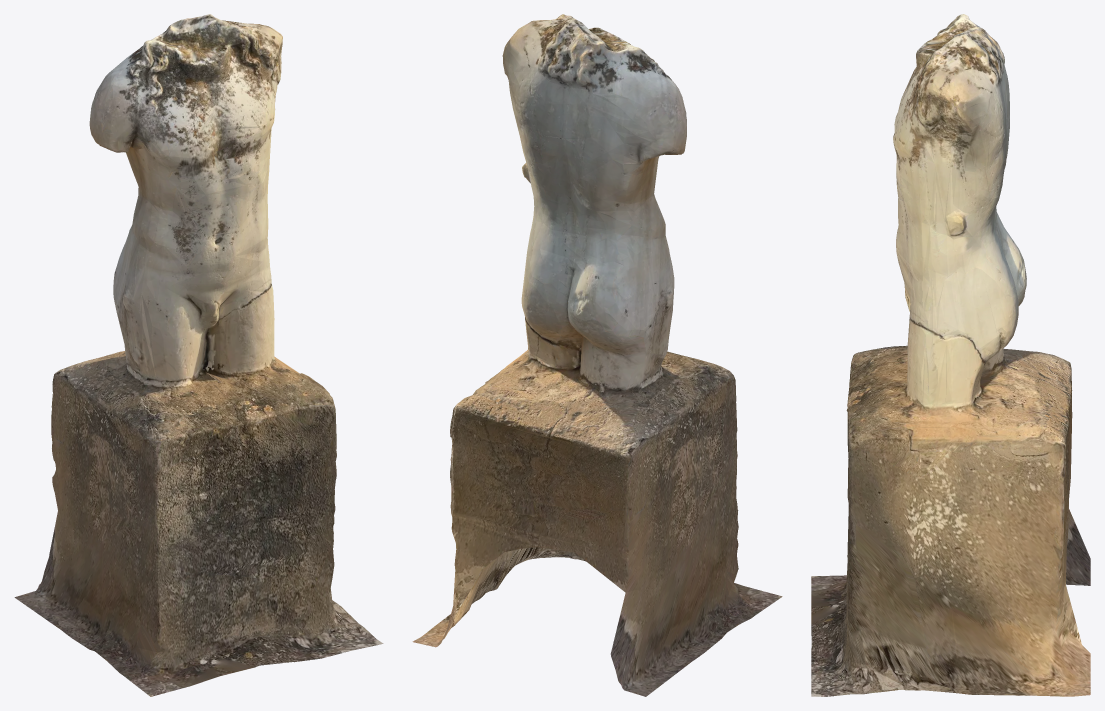
The model's file is male-torso-statue-roman-villas-of-carth.glb.
3 renders of one model, left to right at view 1: azimuth 30°, elevation 25°; view 2: azimuth 150°, elevation 25°; view 3: azimuth 270°, elevation 25°, orthographic. The views are drawn at different scales.
Visible parts, largest first — view 1: Object_3; view 2: Object_3; view 3: Object_3.
Part boxes in pixels (<box>): Object_3: <box>14,14,383,696</box>; Object_3: <box>412,14,782,696</box>; Object_3: <box>811,14,1090,696</box>.
Size of the model in its own units: 0.6202 by 1.52 by 0.6288.
1 material, 1 textured.
